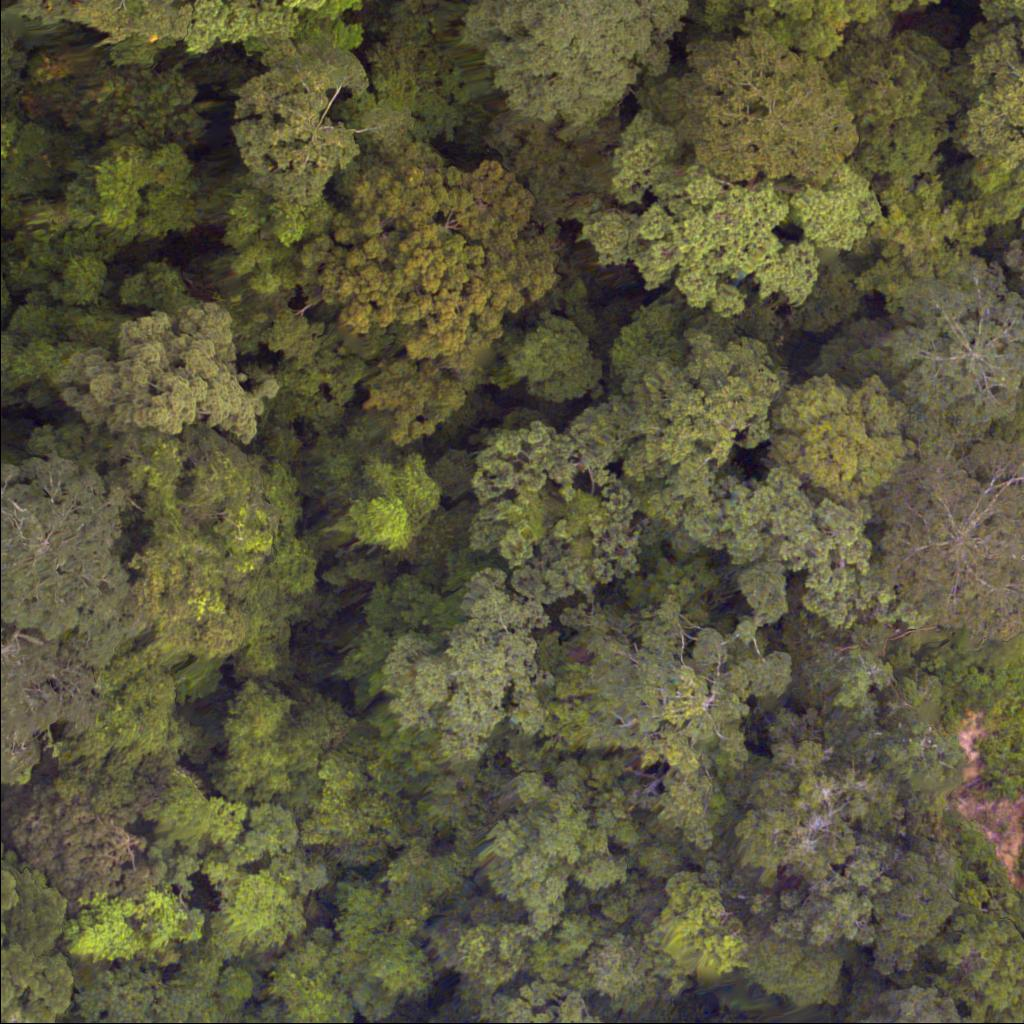crown: (547, 613, 793, 830), (449, 442, 652, 624), (359, 581, 549, 748), (598, 315, 784, 475), (663, 45, 866, 189), (892, 424, 1023, 622), (88, 318, 279, 452), (467, 0, 685, 109), (879, 264, 1023, 426), (753, 380, 910, 503), (217, 677, 341, 806), (334, 875, 440, 1023), (0, 791, 156, 891), (73, 875, 200, 971), (651, 879, 746, 993), (206, 855, 303, 958), (141, 778, 249, 870), (969, 24, 1023, 168), (863, 991, 976, 1023)
